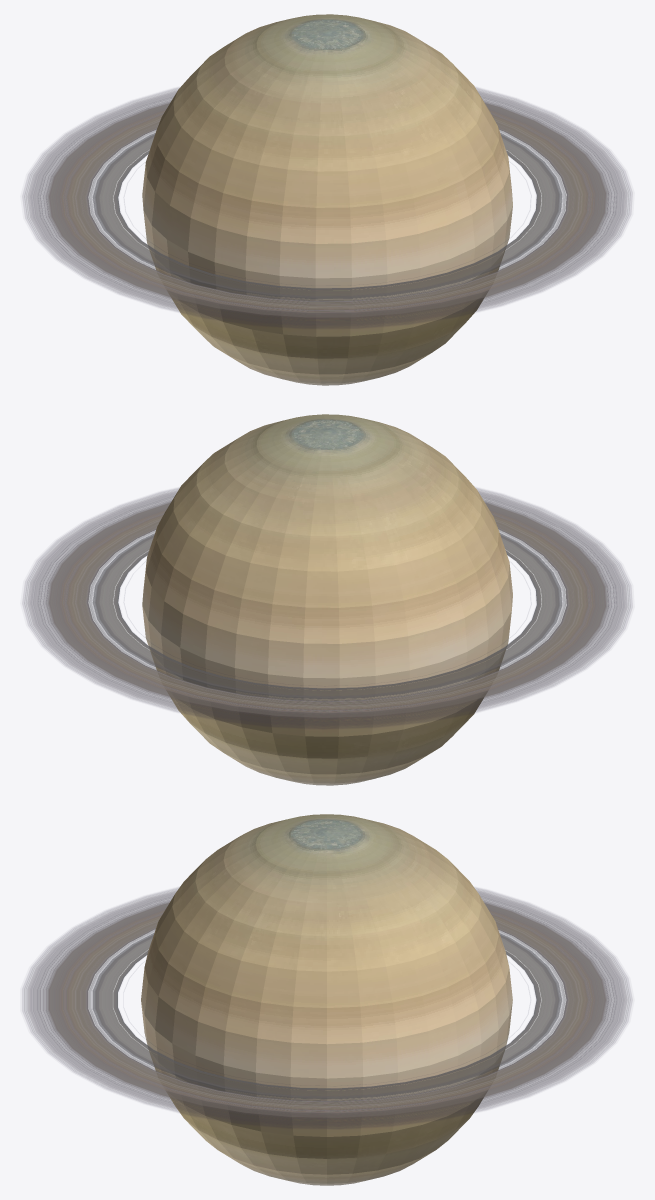
The model's file is saturn.glb.
The picture shows the model from 3 angles, top to bottom: view 1: azimuth 30°, elevation 25°; view 2: azimuth 150°, elevation 25°; view 3: azimuth 270°, elevation 25°; orthographic projection.
Parts seen in each view (by area): view 1: Saturn, Saturn_Ring; view 2: Saturn, Saturn_Ring; view 3: Saturn, Saturn_Ring.
Boxes of the visible parts, x1,y1,x2,y2 form: Saturn: (142,14,512,385); Saturn_Ring: (22,88,632,328); Saturn: (142,414,512,785); Saturn_Ring: (22,488,632,728); Saturn: (141,814,512,1185); Saturn_Ring: (22,888,632,1128).
Size of the model in its own units: 23.34 by 13.83 by 23.32.
Materials: 2 (2 with a texture image).
